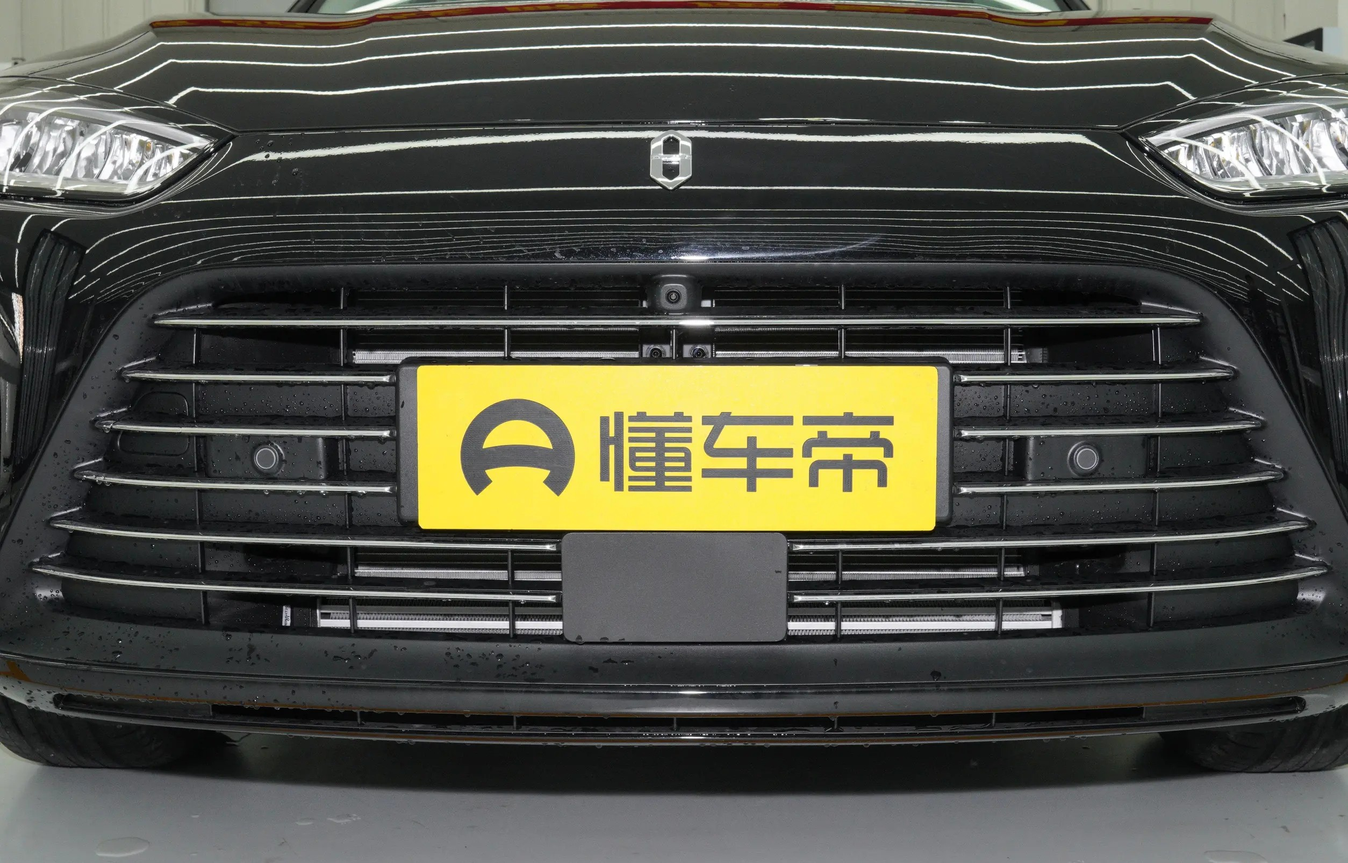AITO: (651, 131, 691, 190)
